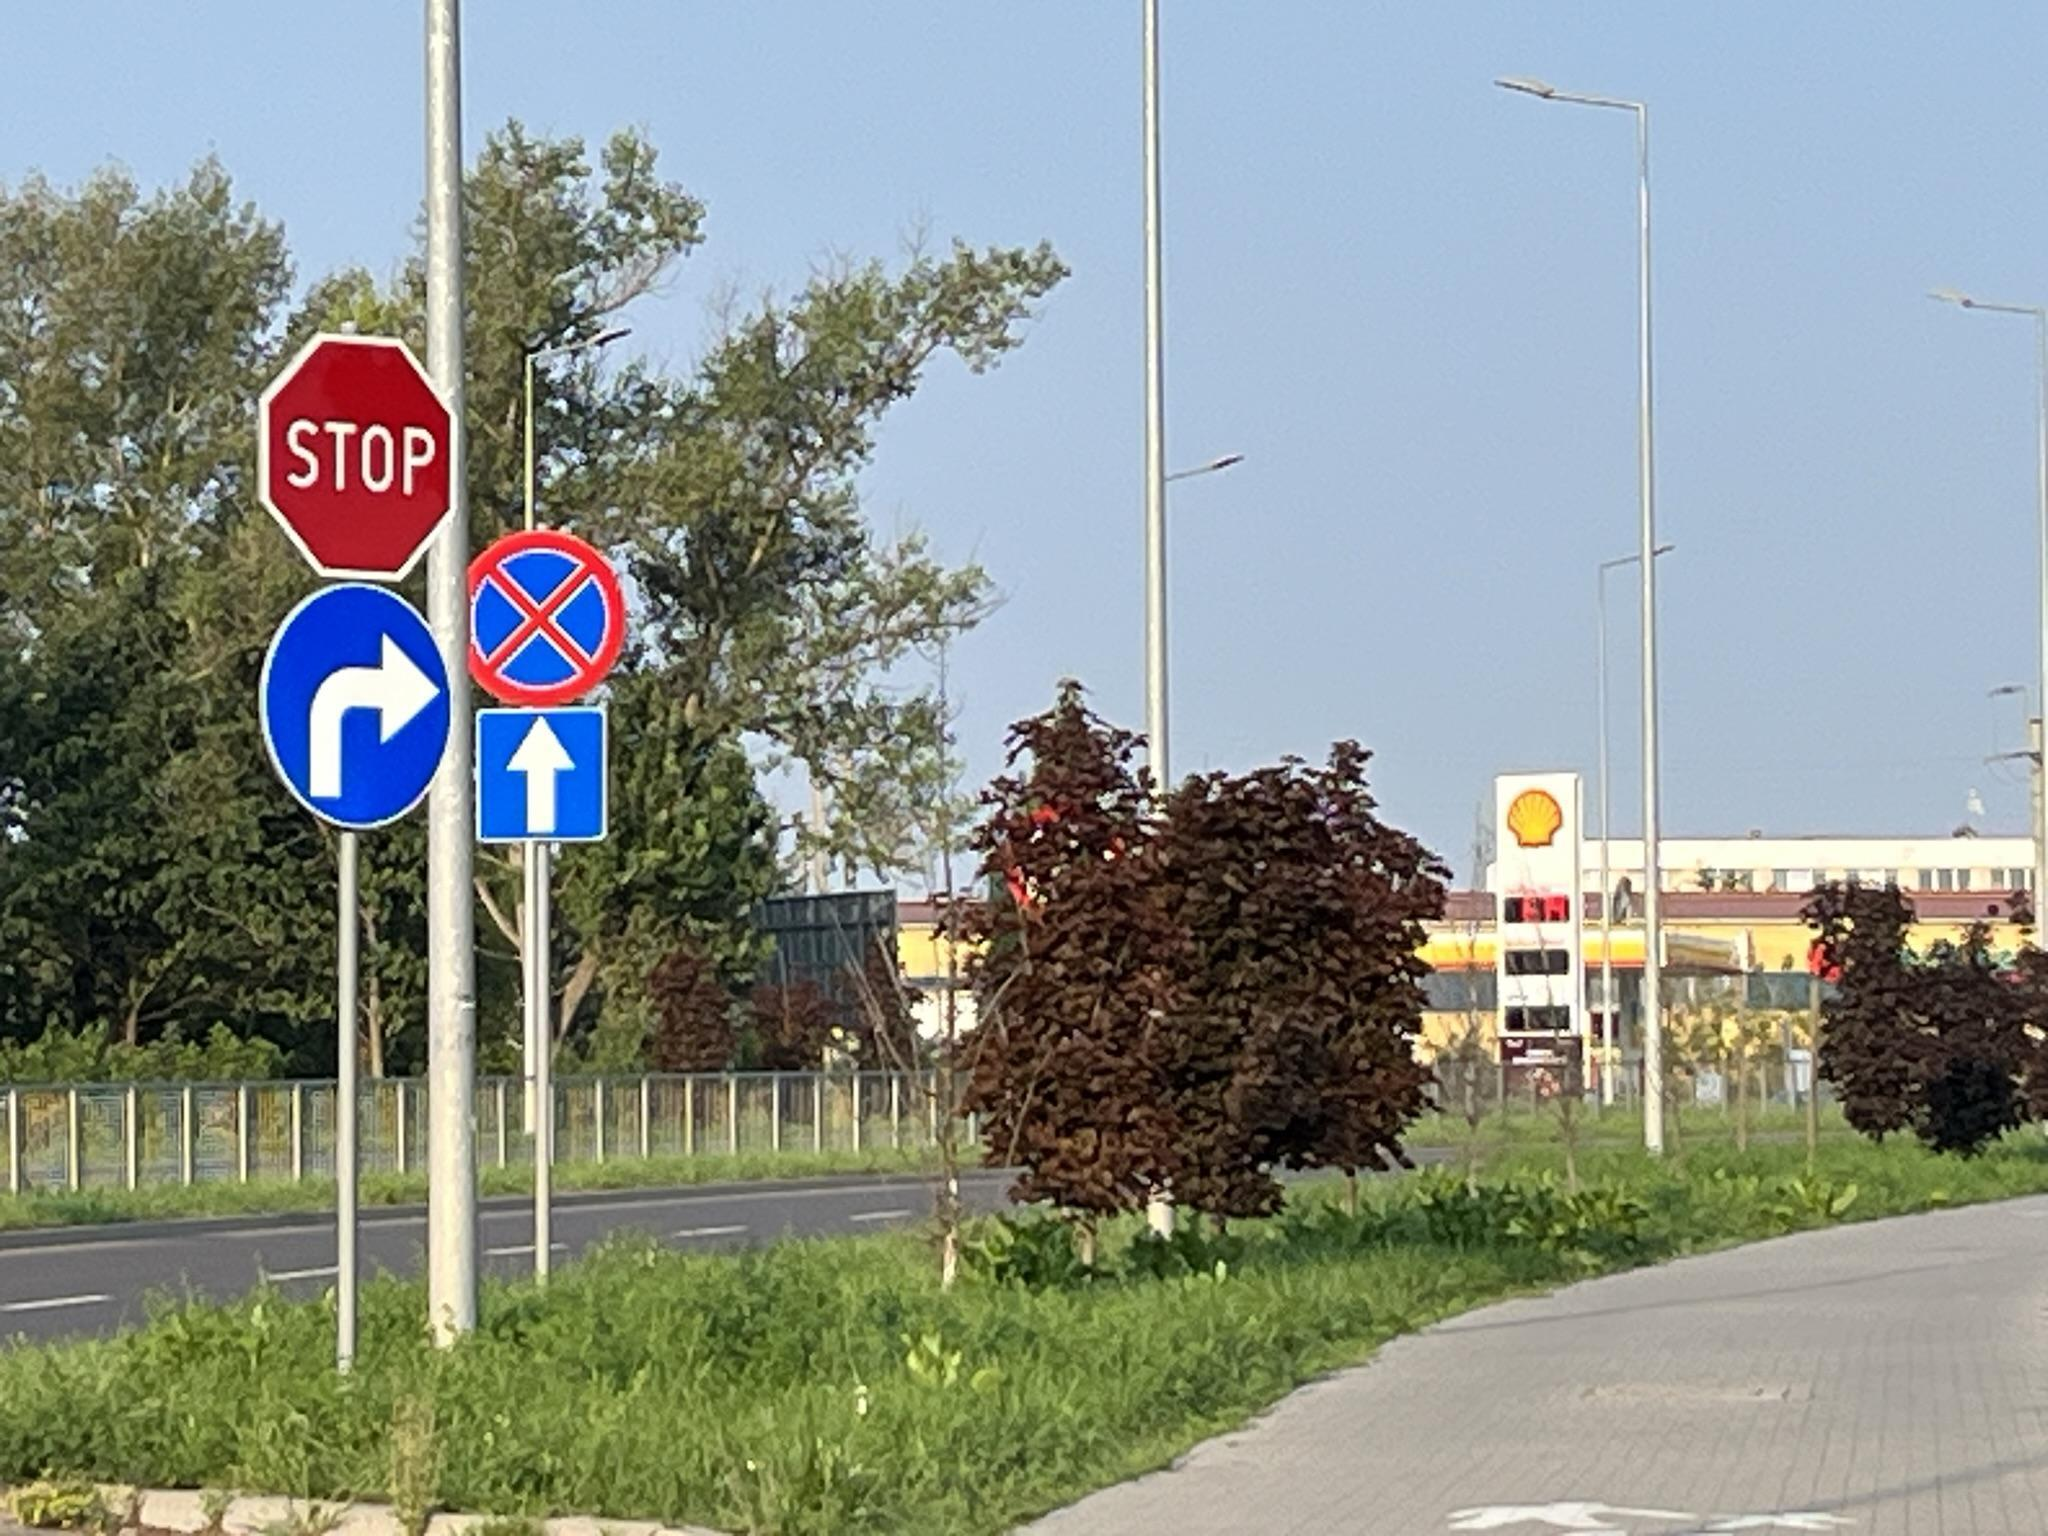information: (477, 710, 606, 842)
mandatory: (258, 581, 453, 831)
prohibitory: (260, 331, 456, 581), (468, 528, 631, 707)
